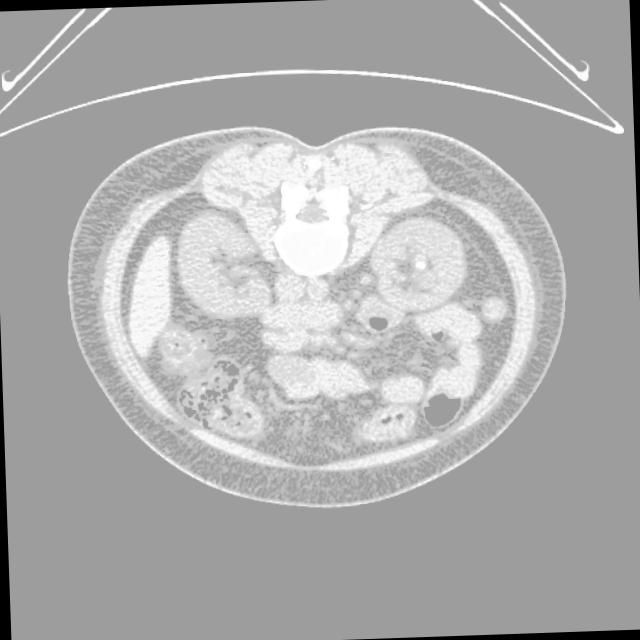STONE: (149, 262, 475, 438)
